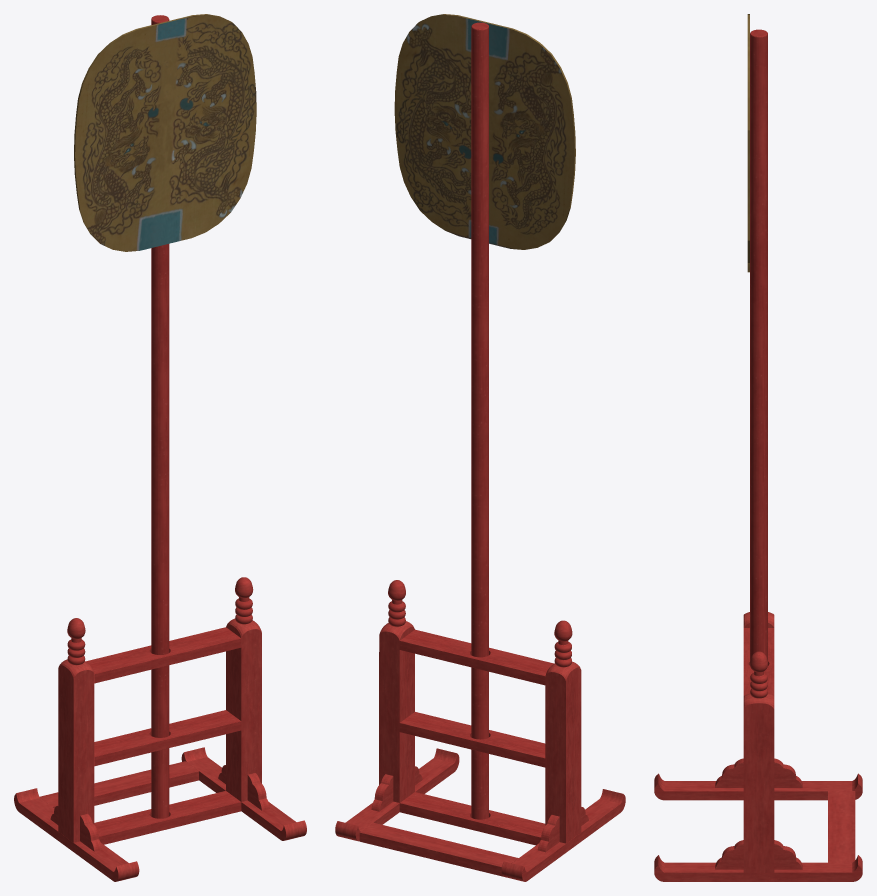
The model's file is SM_GJJ_FanB.fbx.
The picture shows the model from 3 angles, left to right: view 1: azimuth 30°, elevation 25°; view 2: azimuth 150°, elevation 25°; view 3: azimuth 270°, elevation 25°; orthographic projection.
Parts seen in each view (by area): view 1: SM_GJJ_FanB; view 2: SM_GJJ_FanB; view 3: SM_GJJ_FanB.
Boxes of the visible parts, x1,y1,x2,y2 form: SM_GJJ_FanB: (14, 14, 306, 881); SM_GJJ_FanB: (335, 14, 625, 881); SM_GJJ_FanB: (654, 14, 862, 881).
Bounding box in the file's own units: 34.48 × 141 × 33.09.
1 material, 1 textured.
